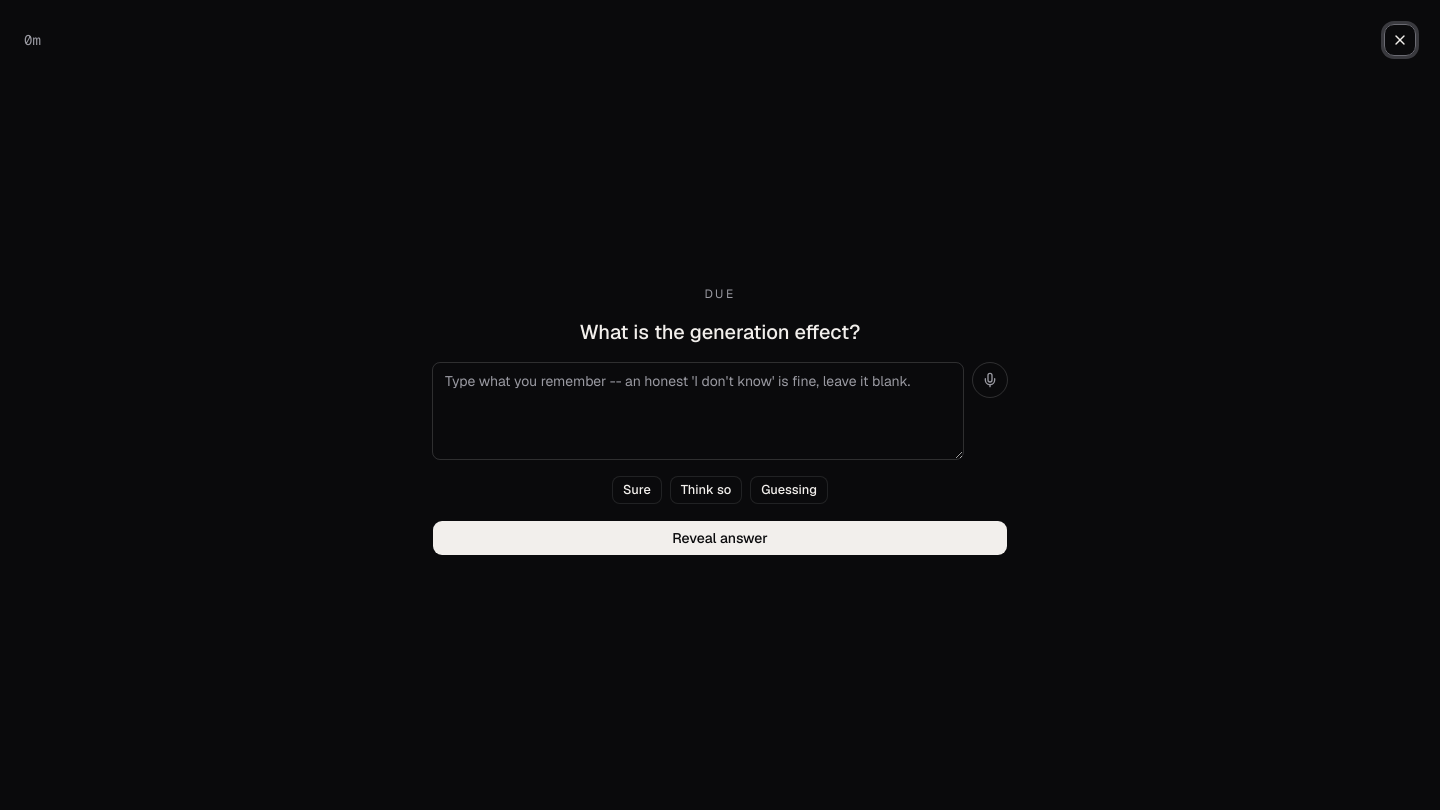
Test case: RetrievalSessionOverlay › feedback later: a queued answer says the agent will add feedback on its next run, and the grade buttons stay live
Check: the text "What is the generation effect?" is shown, box [580,319,860,345]
Click the button "Reveal answer".
click(720, 538)  # box [432,520,1008,556]
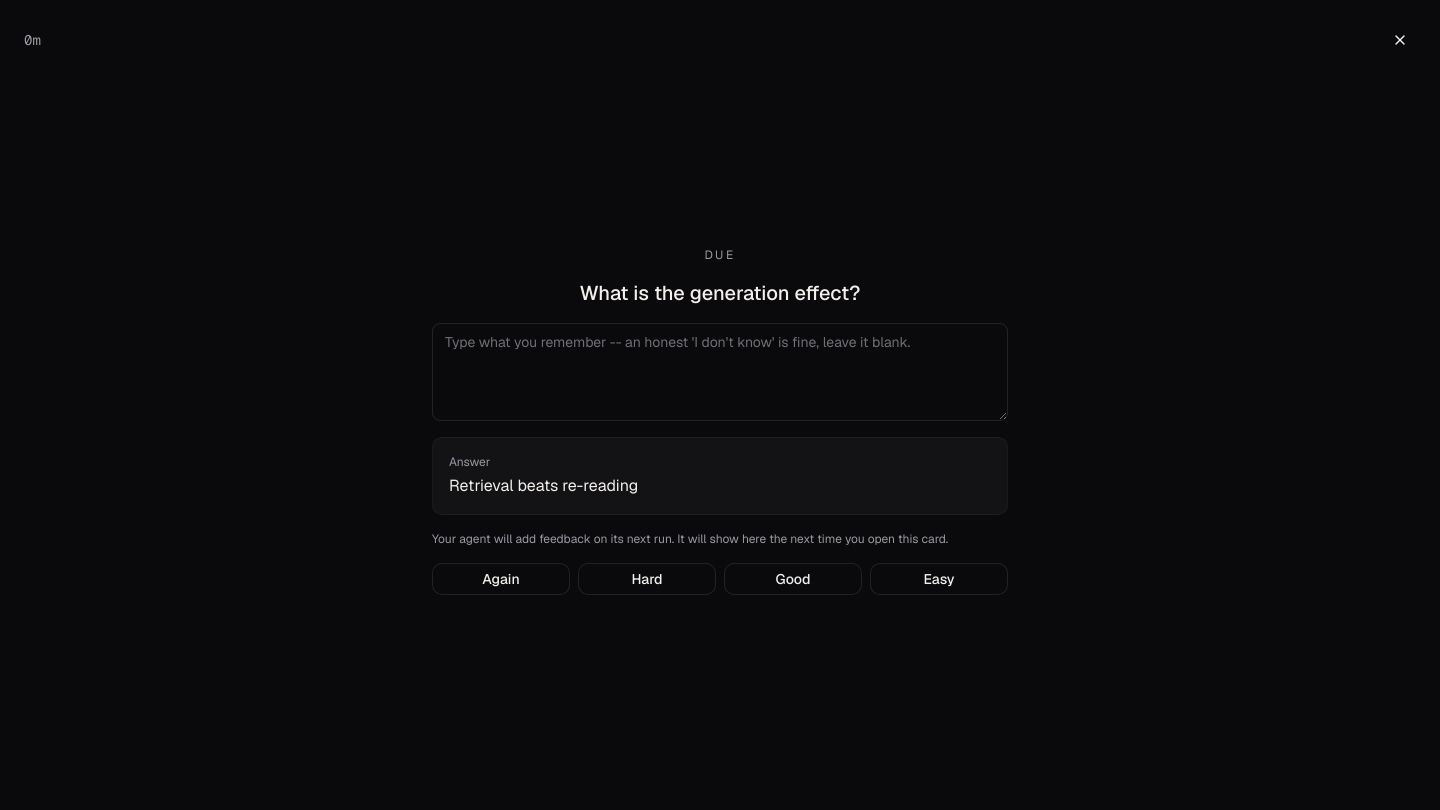
Check: the button "Again" is enabled, box [432,563,570,595]
Check: the text "Retrieval beats re-reading" is shown, box [449,475,638,496]
Check: the text with test id "agent-feedback-pending" shows "Your agent will add feedback on its next run", box [432,531,948,547]
